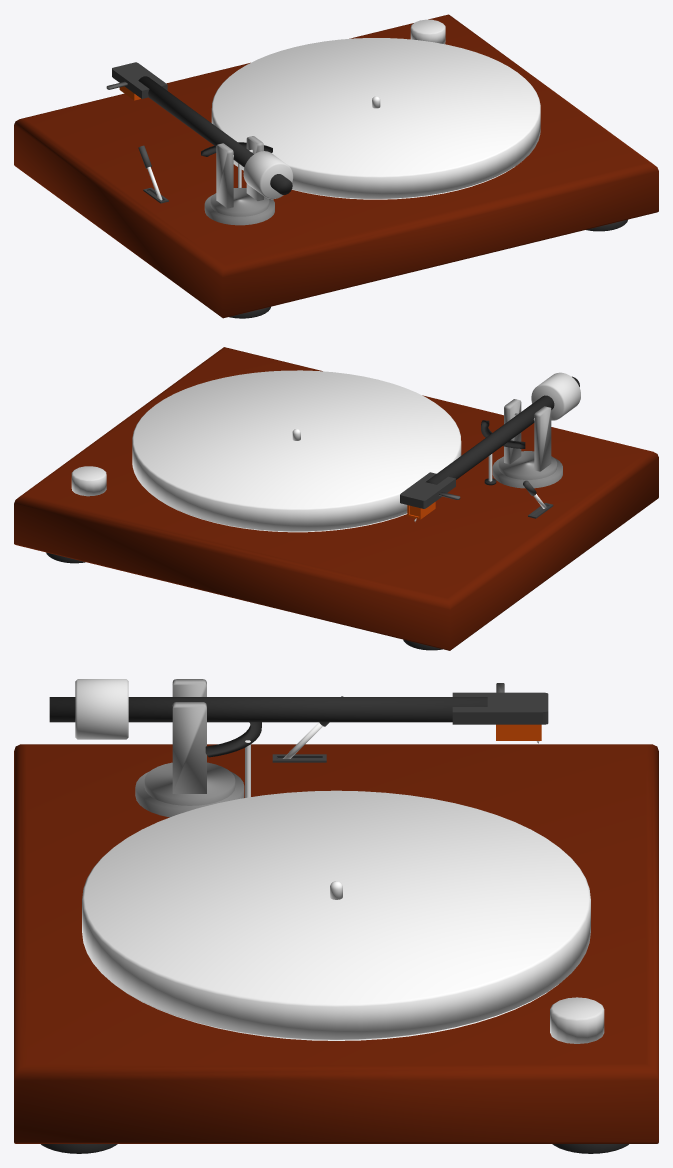
The model's file is turntable.glb.
3 views of the same model, one above another, from view 1: azimuth 30°, elevation 25°; view 2: azimuth 150°, elevation 25°; view 3: azimuth 270°, elevation 25° (orthographic). The views are drawn at different scales.
Visible parts, largest first — view 1: Deck, Platter, Arm, Weight, ArmSupport2, ArmBase, Head, ArmDisc, Switch; view 2: Deck, Platter, Arm, Weight, Head, ArmSupport2, ArmBase, Switch, ArmDisc, ArmSupport1; view 3: Deck, Platter, Arm, Weight, ArmSupport1, Head, Switch, ArmBase, ArmDisc, SupportBar, Cartridge.
Boxes of the visible parts, x1,y1,x2,y2 form: Deck: (14, 14, 658, 318); Platter: (211, 38, 540, 199); Arm: (138, 76, 292, 194); Weight: (243, 151, 293, 199); ArmSupport2: (216, 143, 233, 208); ArmBase: (210, 187, 269, 216); Head: (112, 62, 167, 98); ArmDisc: (204, 195, 274, 225); Switch: (410, 19, 445, 44); Deck: (14, 347, 658, 650); Platter: (132, 370, 461, 532); Arm: (426, 376, 579, 484); Weight: (531, 372, 580, 420); Head: (400, 472, 455, 508); ArmSupport2: (534, 406, 551, 471); ArmBase: (498, 451, 557, 479); Switch: (71, 466, 106, 496); ArmDisc: (492, 458, 562, 488); ArmSupport1: (504, 399, 521, 464); Deck: (14, 744, 658, 1143); Platter: (82, 790, 590, 1040); Arm: (49, 697, 487, 722); Weight: (75, 679, 128, 739); ArmSupport1: (172, 702, 206, 793); Head: (452, 692, 548, 724); Switch: (550, 997, 604, 1043); ArmBase: (144, 762, 235, 805); ArmDisc: (135, 771, 244, 817); SupportBar: (205, 722, 261, 757); Cartridge: (496, 724, 541, 740).
Size of the model in its own units: 4.29 by 1.27 by 3.55.
